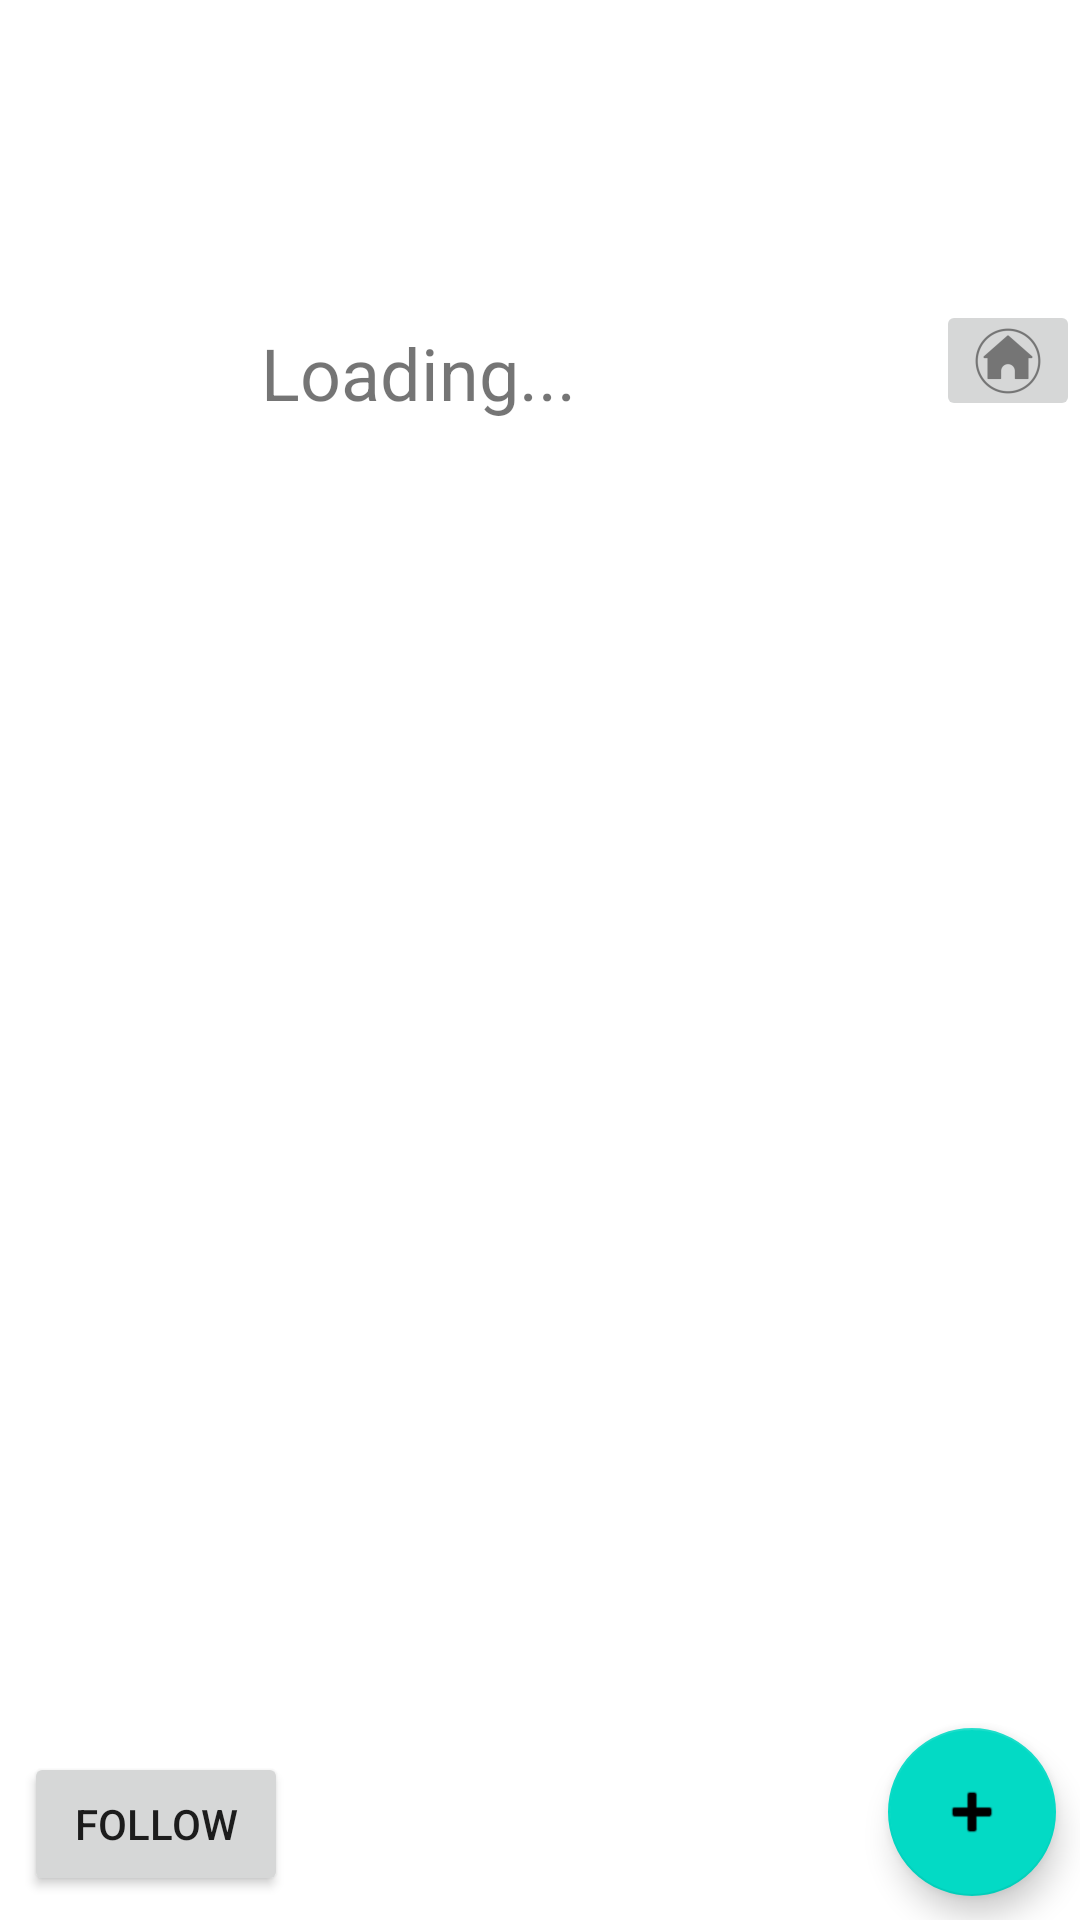

Named icons in this screenshot (1080px x 1920px) and their centers, [x,y]:
add: [972,1812]
